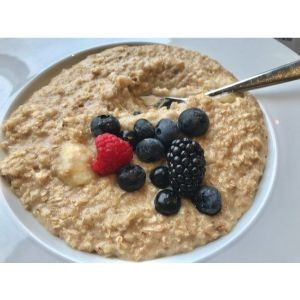oat_brain food: (29, 98, 83, 210)
